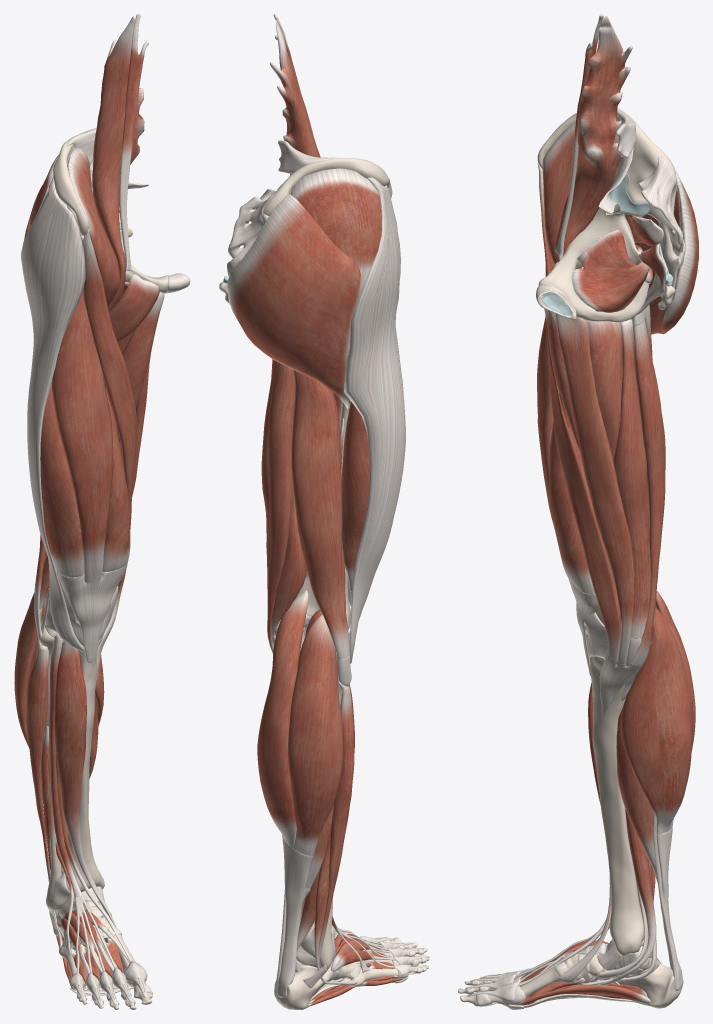
Rendered from lower-muscles-soleus.glb.
The picture shows the model from 3 angles, left to right: view 1: azimuth 30°, elevation 25°; view 2: azimuth 150°, elevation 25°; view 3: azimuth 270°, elevation 25°; orthographic projection. The views are drawn at different scales.
Visible parts, largest first — view 1: Iliotibial tract.r, Rectus femoris.r, Psoas major.r, Tibialis anterior muscle.r, Sartorius muscle.r, Vastus lateralis muscle.r, Fibularis longus muscle.r, Quadriceps common tendon and patellar ligament.r, Iliacus muscle.r, Vastus medialis muscle.r, Tibia.r, Psoas minor.r (+18 smaller); view 2: Gluteus maximus muscle.r, Iliotibial tract.r, Long head of biceps femoris.r, Lateral head of gastrocnemius.r, Medial head of gastrocnemius.r, Gluteus medius muscle.r, Semitendinosus muscle.r, Vastus lateralis muscle.r, Fibularis longus muscle.r, Semimembranosus muscle.r, Calcaneal tendon.r, Psoas major.r (+11 smaller); view 3: Medial head of gastrocnemius.r, Gracilis muscle.r, Psoas major.r, Tibia.r, Semimembranosus muscle.r, Hip bone.r, Sartorius muscle.r, Semitendinosus muscle.r, Obturator internus.r, Vastus medialis muscle.r, Adductor magnus.r, Gluteus maximus muscle.r (+23 smaller).
Boxes of the visible parts, x1,y1,x2,y2 form: Iliotibial tract.r: (21,177,85,651); Rectus femoris.r: (52,290,113,582); Psoas major.r: (92,16,144,311); Tibialis anterior muscle.r: (54,641,116,927); Sartorius muscle.r: (79,229,136,613); Vastus lateralis muscle.r: (40,379,83,577); Fibularis longus muscle.r: (26,639,64,940); Quadriceps common tendon and patellar ligament.r: (57,565,127,662); Iliacus muscle.r: (67,147,120,306); Vastus medialis muscle.r: (102,387,130,572); Tibia.r: (56,632,104,891); Psoas minor.r: (119,14,148,271); Gluteus maximus muscle.r: (227,193,362,408); Iliotibial tract.r: (344,177,405,663); Long head of biceps femoris.r: (291,370,349,659); Lateral head of gastrocnemius.r: (288,614,343,856); Medial head of gastrocnemius.r: (257,590,308,848); Gluteus medius muscle.r: (290,168,381,287); Semitendinosus muscle.r: (267,362,295,653); Vastus lateralis muscle.r: (341,401,370,591); Fibularis longus muscle.r: (318,682,354,982); Semimembranosus muscle.r: (261,361,306,635); Calcaneal tendon.r: (277,838,313,997); Psoas major.r: (270,20,320,175); Medial head of gastrocnemius.r: (620,607,693,834); Gracilis muscle.r: (555,313,634,664); Psoas major.r: (555,15,632,261); Tibia.r: (589,656,648,956); Semimembranosus muscle.r: (613,319,658,638); Hip bone.r: (537,108,675,322); Sartorius muscle.r: (537,163,620,660); Semitendinosus muscle.r: (631,319,665,665); Obturator internus.r: (571,229,649,312); Vastus medialis muscle.r: (549,393,595,594); Adductor magnus.r: (585,319,622,499); Gluteus maximus muscle.r: (631,150,698,334).
Size of the model in its own units: 0.1781 by 1.15 by 0.2463.
48 materials, 13 textured.
